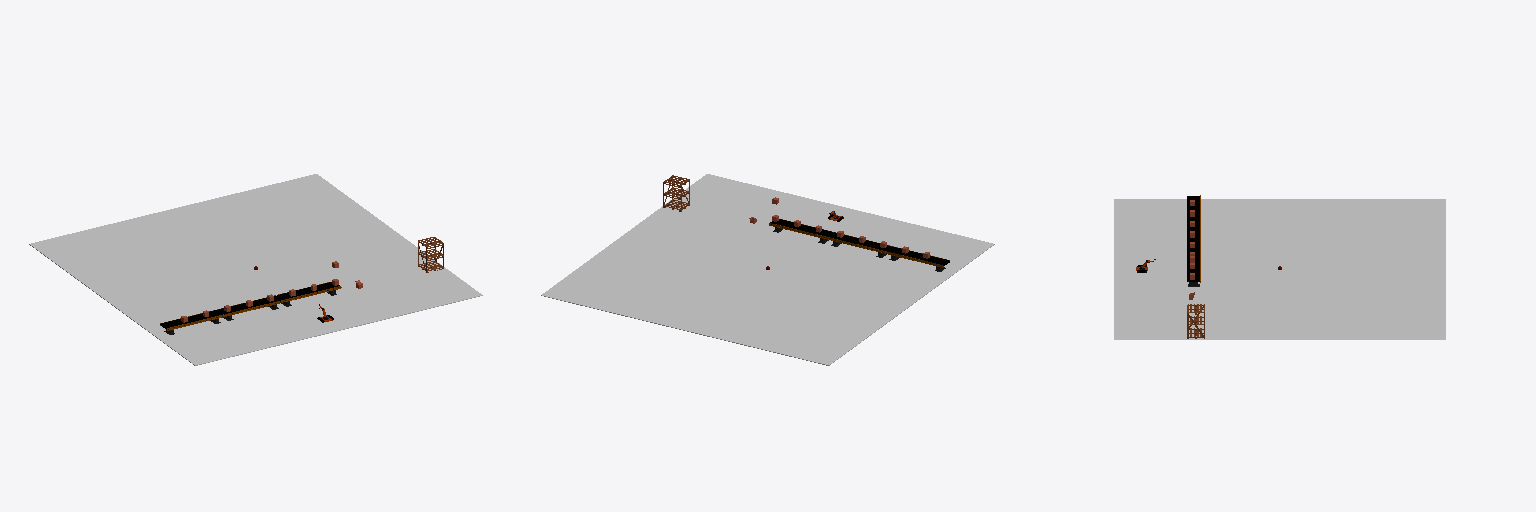
3 views of the same model, side by side, from view 1: azimuth 30°, elevation 25°; view 2: azimuth 150°, elevation 25°; view 3: azimuth 270°, elevation 25° (orthographic).
Parts seen in each view (by area): view 1: Cube_Cube.001, pallet_04_Mesh.005; view 2: Cube_Cube.001, pallet_04_Mesh.005; view 3: Cube_Cube.001.
Boxes of the visible parts, box(x1,y1,x2,y2) form: Cube_Cube.001: box(29, 174, 482, 365); pallet_04_Mesh.005: box(418, 237, 443, 272); Cube_Cube.001: box(541, 174, 994, 365); pallet_04_Mesh.005: box(663, 175, 689, 211); Cube_Cube.001: box(1114, 199, 1445, 339).
Bounding box in the file's own units: 20 × 2.2 × 20.